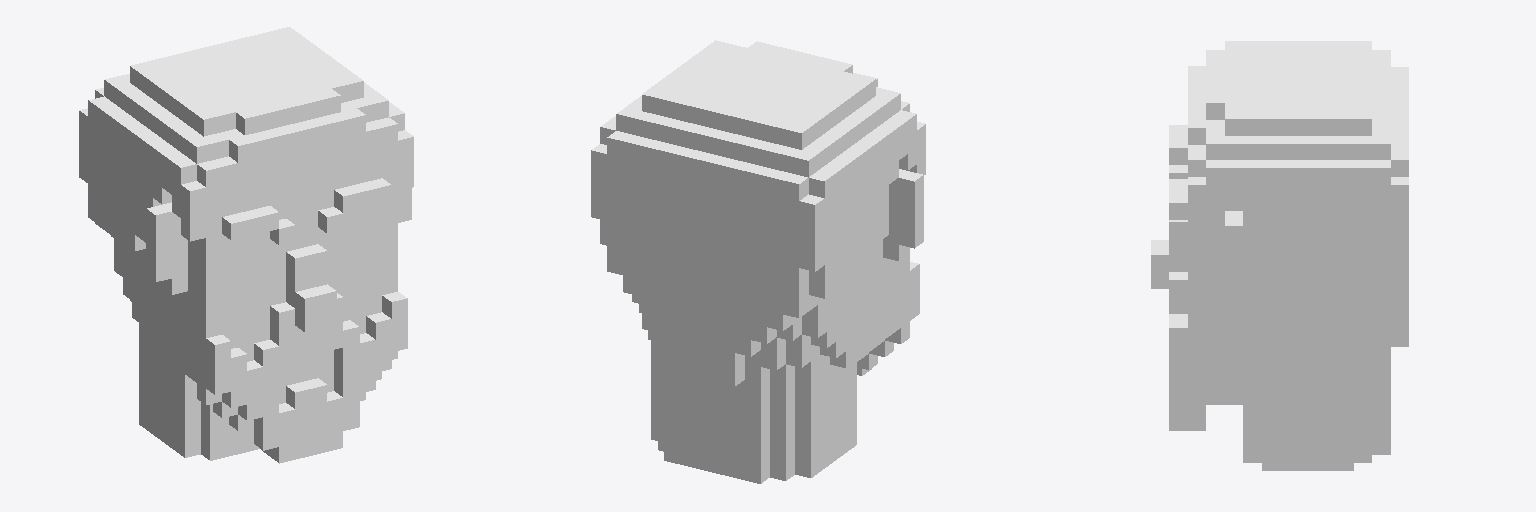
Rendered from Hero-0.obj.
The picture shows the model from 3 angles: view 1: azimuth 30°, elevation 25°; view 2: azimuth 150°, elevation 25°; view 3: azimuth 270°, elevation 25°; orthographic projection.
Parts seen in each view (by area): view 1: object 1; view 2: object 1; view 3: object 1.
Part boxes in pixels (bbox=[...]): object 1: bbox=[79, 27, 413, 463]; object 1: bbox=[591, 40, 925, 483]; object 1: bbox=[1151, 41, 1408, 470].
Size of the model in its own units: 1.6 by 2.1 by 1.4.